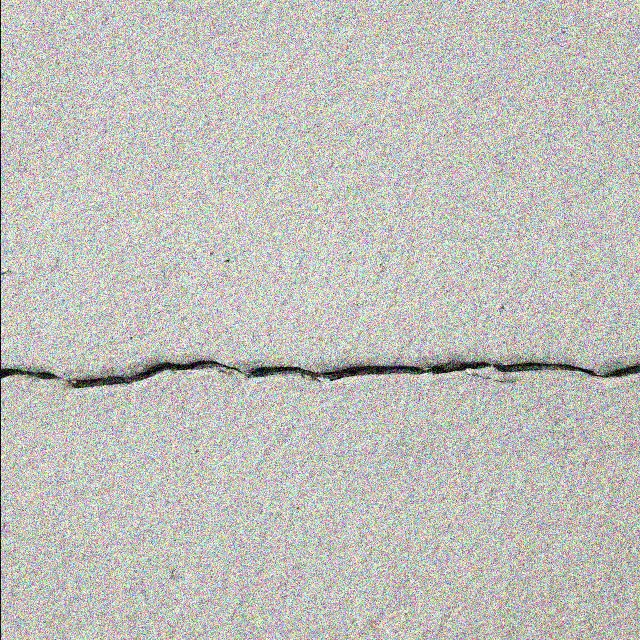SurfaceCrack: (1, 298, 640, 441)
